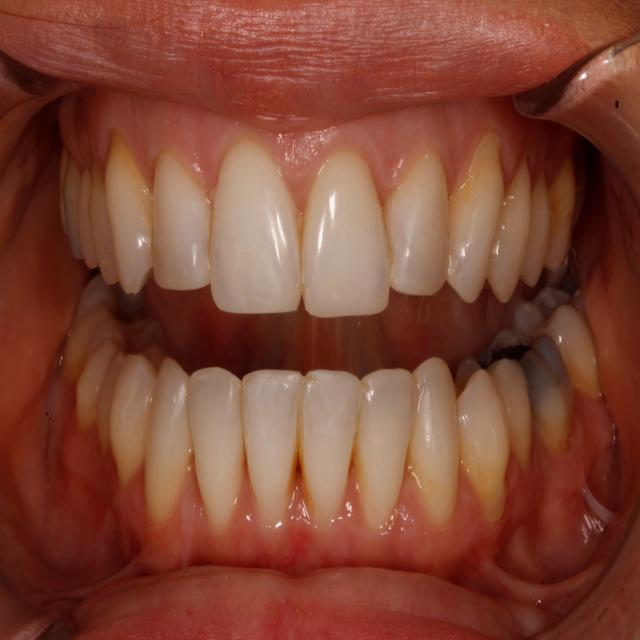tooth: (210, 155, 298, 307), (304, 160, 389, 316), (207, 376, 279, 517), (280, 379, 341, 514), (358, 376, 414, 523), (452, 146, 504, 302), (150, 171, 212, 289), (163, 368, 208, 518), (415, 379, 464, 515), (392, 185, 452, 288), (107, 164, 150, 285), (461, 394, 506, 508), (526, 357, 579, 449), (553, 321, 609, 403), (520, 188, 557, 280), (514, 372, 544, 469), (507, 179, 528, 301), (558, 185, 581, 281)
